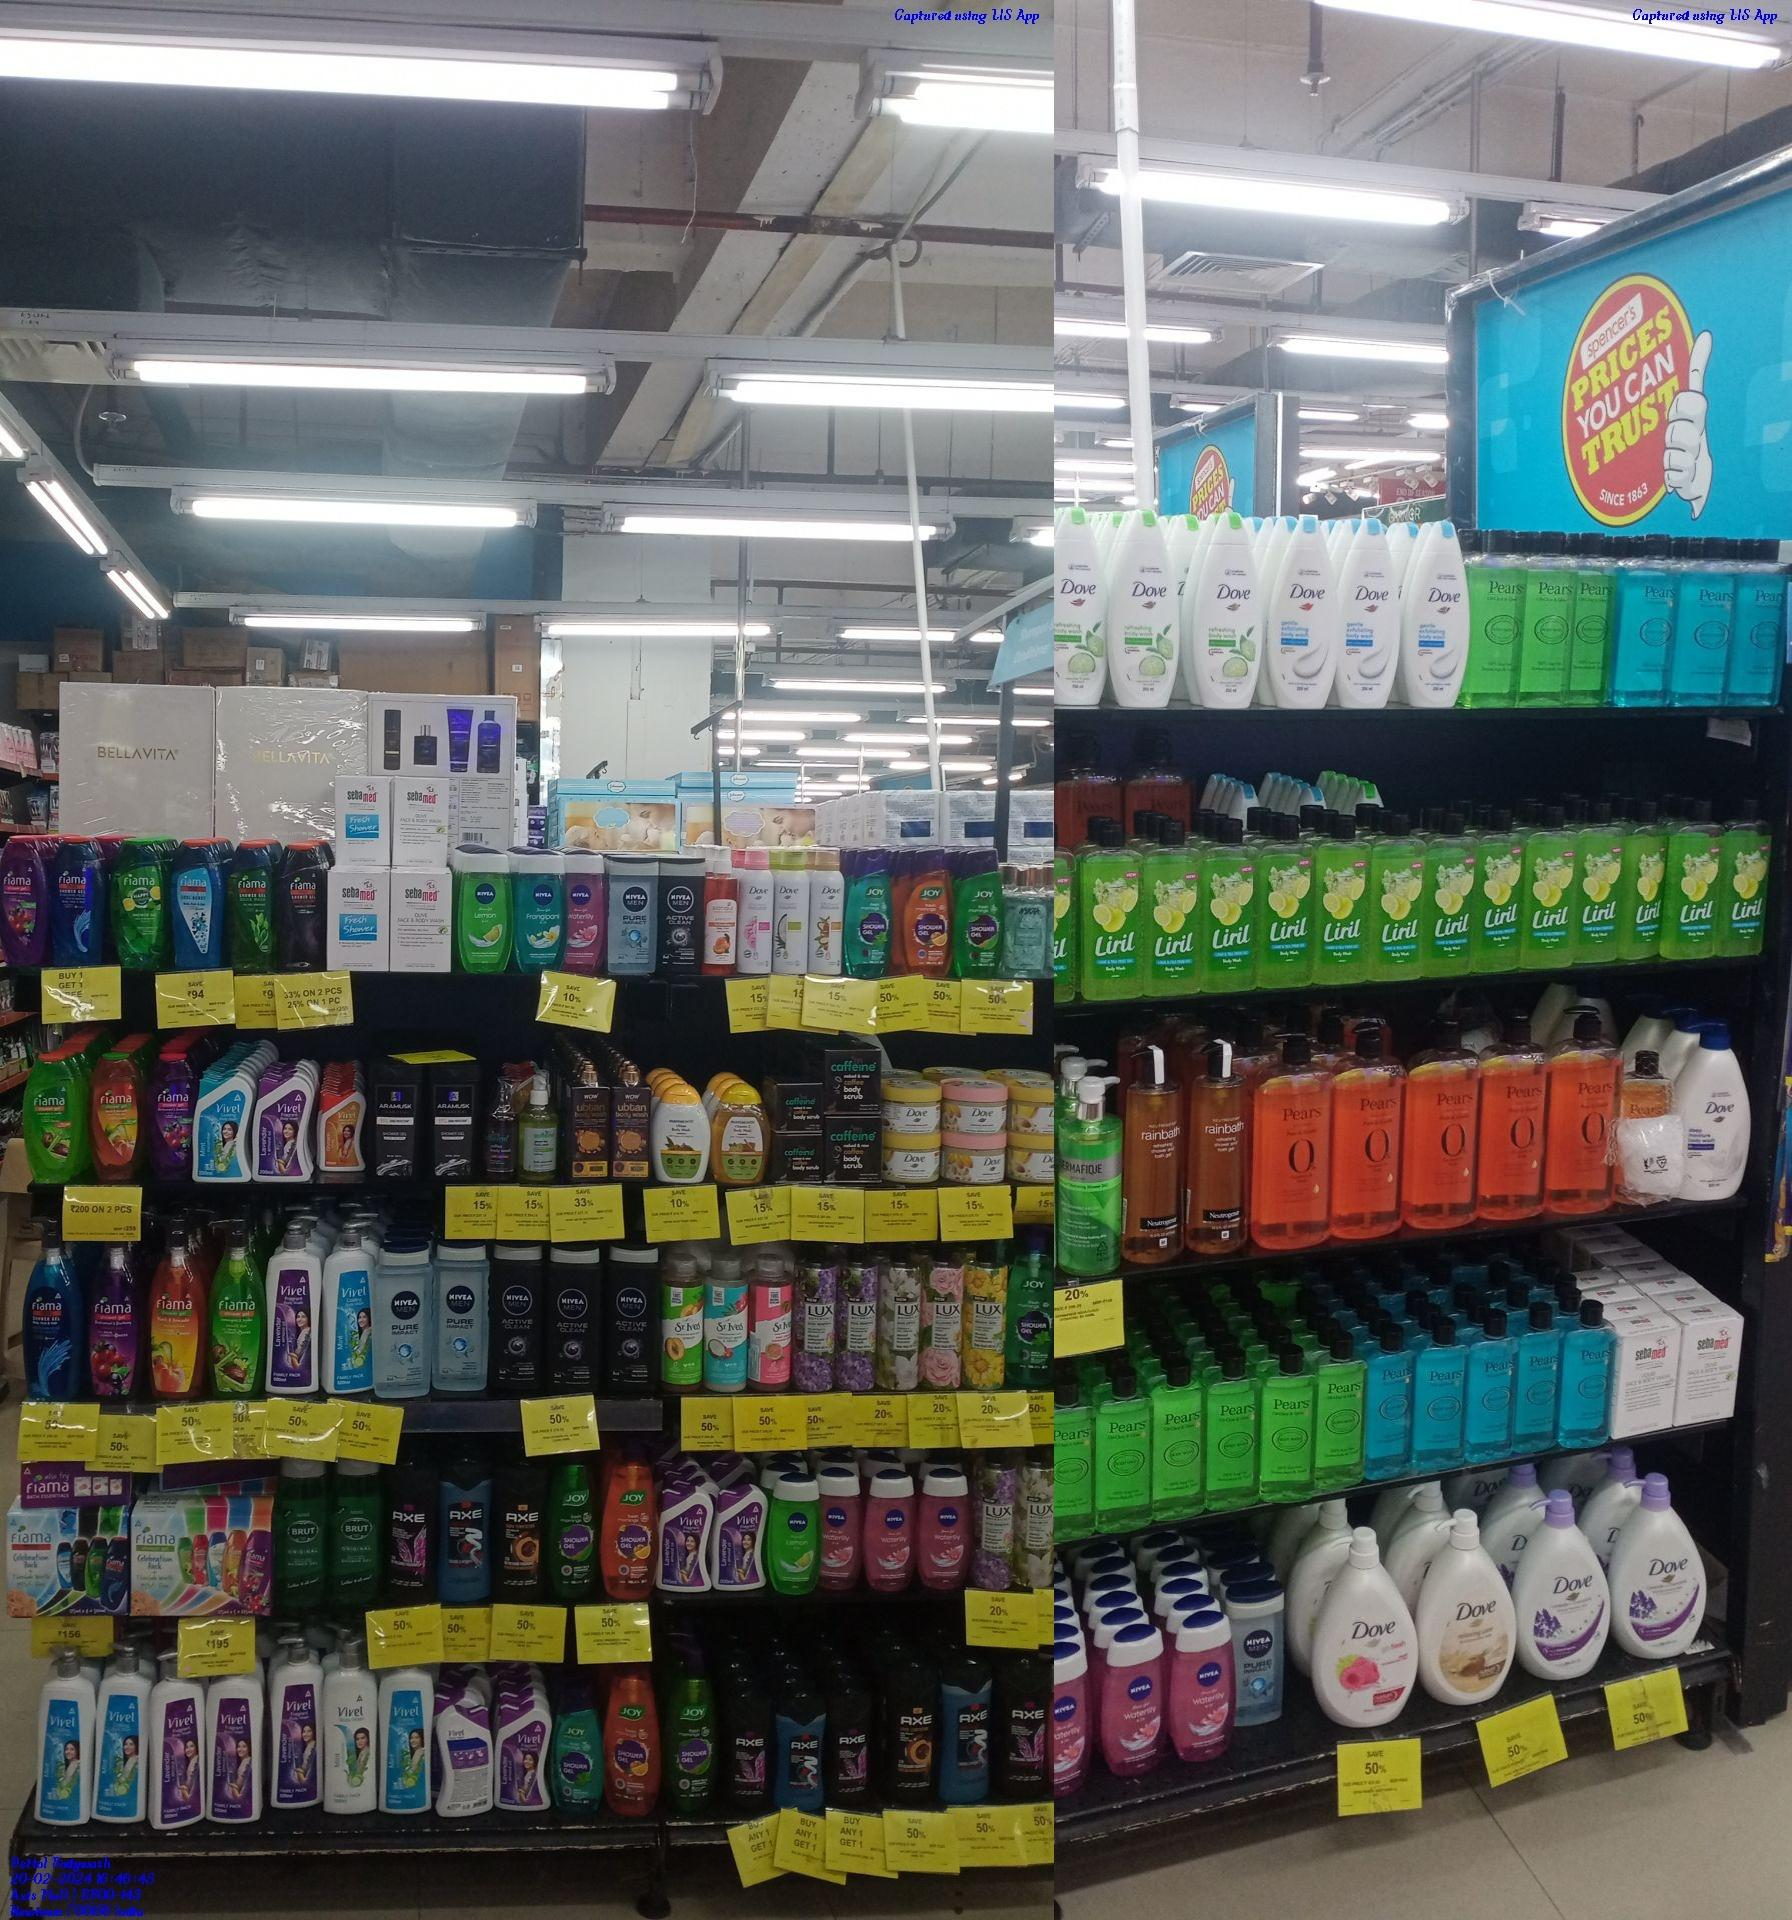Dove_Gentle_Exfoliating_Body_Wash_250ML: (1403, 520, 1469, 711), (1273, 515, 1337, 709), (1342, 515, 1400, 709)
Dove_Refreshing_Body_Wash_250ML: (1108, 507, 1181, 706), (1192, 514, 1265, 704), (1056, 507, 1105, 707)
Fiama_Shower_Gel_Lemongrass_and_Jojoba_250ML: (22, 1054, 79, 1181), (89, 1053, 143, 1186)
Joy_Shower_Gel_Mandarin_and_Lemongrass_250ML: (600, 1433, 657, 1597), (610, 1659, 660, 1816), (899, 851, 952, 982)
Joy_Shower_Gel_Mint_and_Eucalyptus_250ML: (554, 1679, 605, 1812), (845, 845, 893, 979)
Liril_Lime_and_Tea_Tree_Oil_Body_Wash_250ML: (1076, 817, 1147, 1000), (1152, 820, 1208, 995), (1263, 812, 1315, 989), (1319, 808, 1366, 987), (1667, 797, 1718, 960), (1213, 819, 1260, 992), (1373, 815, 1421, 982), (1425, 812, 1474, 975), (1528, 808, 1576, 965), (1723, 792, 1768, 955), (1477, 810, 1523, 972), (1622, 800, 1662, 960), (1580, 805, 1620, 962)
Nivea_Shower_Gel_Frangipani_and_Oil_250ML: (517, 854, 561, 968)
Nivea_Shower_Gel_Lemon_and_Oil_250ML: (458, 854, 512, 973), (766, 1474, 820, 1590)
Nivea_Shower_Gel_Waterlily_and_Oil_250ML: (1101, 1629, 1167, 1777), (1169, 1620, 1236, 1760), (864, 1467, 913, 1592), (920, 1475, 970, 1593), (564, 852, 605, 973)
Pears_Pure_Glycerin_and_Lemon_Flower_Extracts_Body_Wash_250ML: (1098, 1369, 1155, 1531), (1263, 1339, 1319, 1504), (1523, 531, 1573, 706), (1474, 527, 1521, 707), (1157, 1357, 1208, 1521), (1211, 1346, 1258, 1506), (1320, 1337, 1369, 1491), (1576, 532, 1612, 707), (1054, 1388, 1095, 1539)
Pears_Pure_Glycerin_and_Mint_Extracts_Body_Wash_250ML: (1674, 542, 1735, 707), (1619, 539, 1671, 706), (1740, 541, 1789, 707), (1420, 1324, 1465, 1467), (1371, 1327, 1415, 1475), (1516, 1312, 1561, 1453), (1566, 1304, 1610, 1448), (1469, 1319, 1511, 1464)
